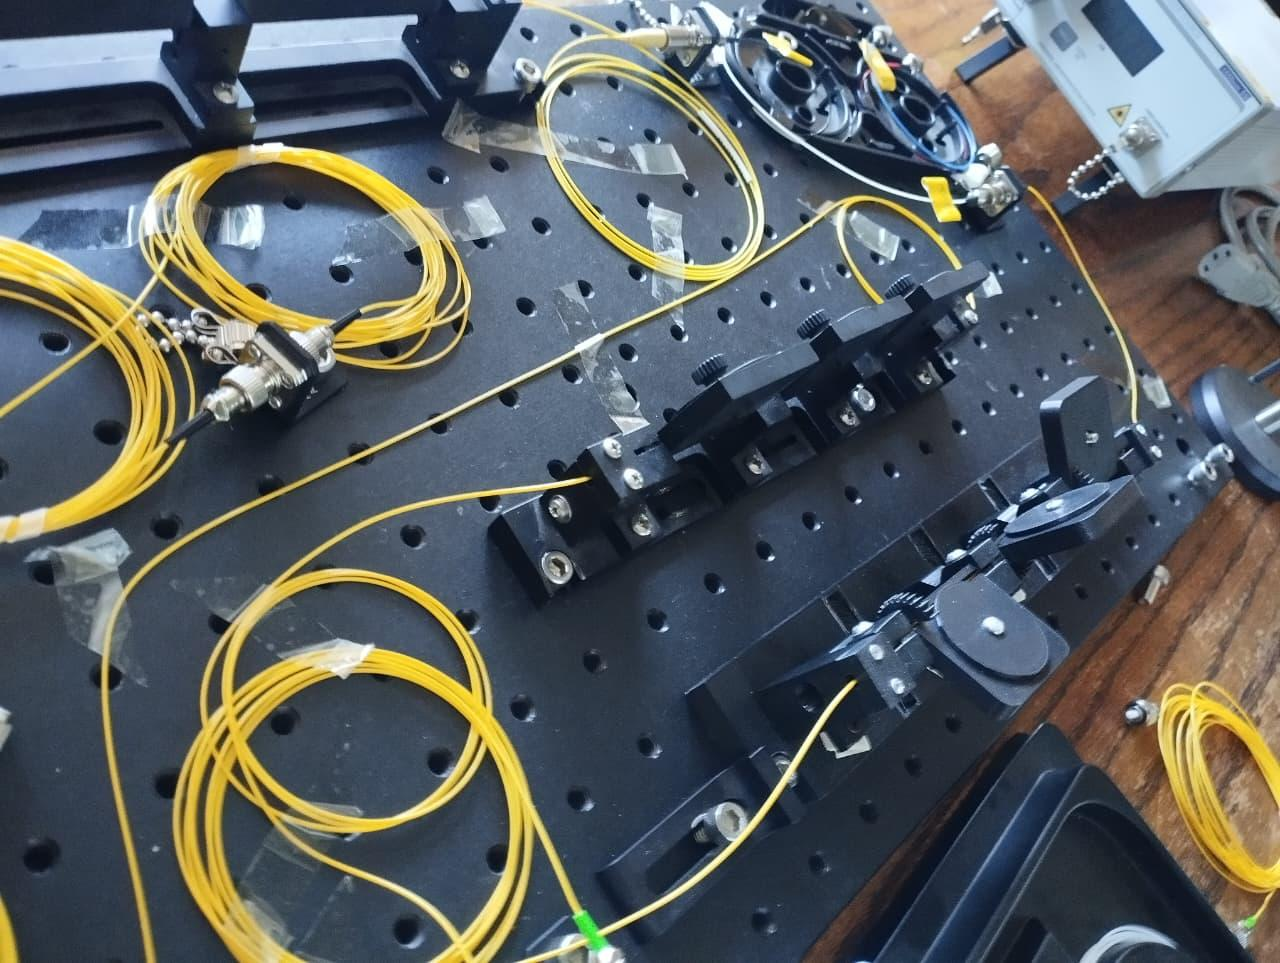fiber_cable: (125, 576, 558, 963), (130, 150, 485, 377), (535, 14, 802, 310), (0, 209, 200, 543), (1116, 651, 1280, 963)
laser: (956, 0, 1280, 245)
paddle_polarization_controller: (539, 352, 1211, 962), (461, 247, 1008, 635)
